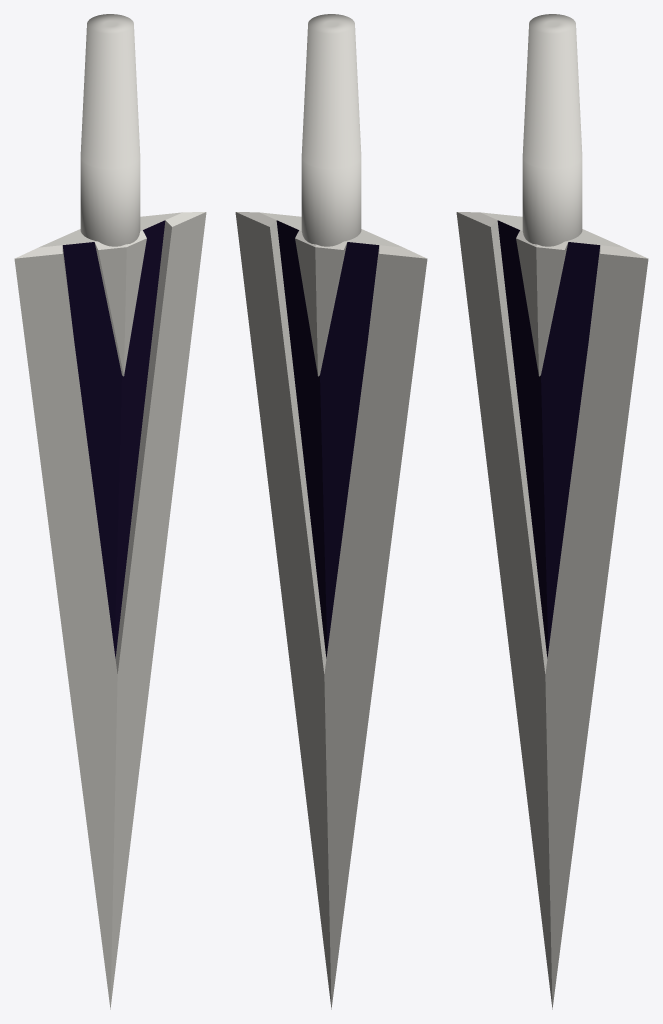
File: Nail Stage 3 - 2.glb
3 views of the same model, side by side, from view 1: azimuth 30°, elevation 25°; view 2: azimuth 150°, elevation 25°; view 3: azimuth 330°, elevation 25° (orthographic).
Visible parts, largest first — view 1: Blade, Hand; view 2: Blade, Hand; view 3: Blade, Hand.
Boxes of the visible parts, x1,y1,x2,y2 form: Blade: (14,212,206,1009); Hand: (80,14,140,246); Blade: (235,212,427,1009); Hand: (301,14,361,246); Blade: (456,212,648,1009); Hand: (522,14,582,246).
Size of the model in its own units: 2.4 by 11.8 by 0.7055.
